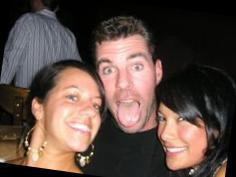Drunk: (99, 41, 154, 129), (57, 73, 101, 150), (159, 103, 200, 169)
